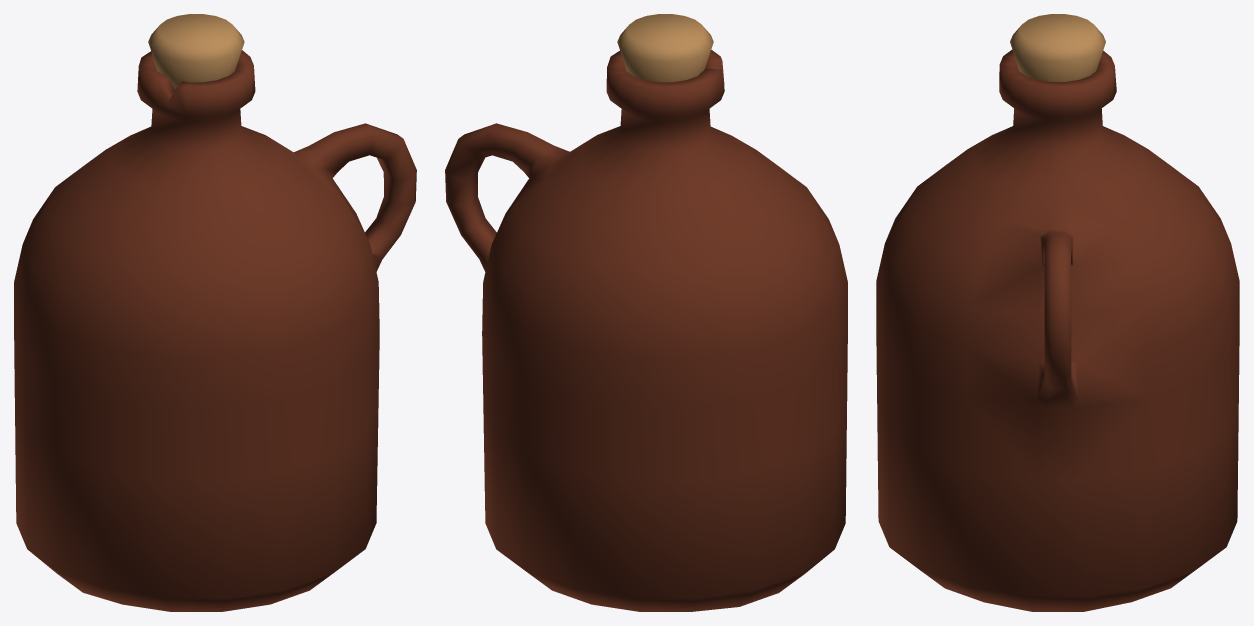
Rendered from RUM LOW.fbx.
3 views of the same model, side by side, from view 1: azimuth 30°, elevation 25°; view 2: azimuth 150°, elevation 25°; view 3: azimuth 270°, elevation 25° (orthographic).
Visible parts, largest first — view 1: Rum_low, Cep_low; view 2: Rum_low, Cep_low; view 3: Rum_low, Cep_low.
Boxes of the visible parts, x1,y1,x2,y2 form: Rum_low: (14,50,416,611); Cep_low: (148,14,244,89); Rum_low: (445,50,847,611); Cep_low: (617,14,713,82); Rum_low: (876,49,1239,611); Cep_low: (1010,14,1105,81).
Size of the model in its own units: 236 by 316 by 200.
